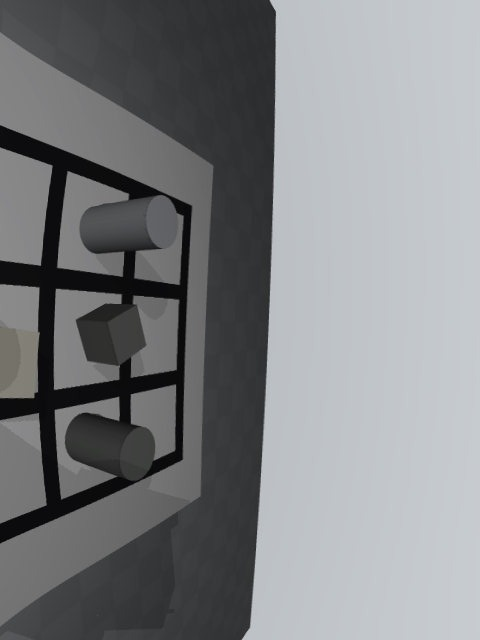can: (79, 195, 179, 254)
cube: (76, 304, 147, 366)
cylinder: (65, 413, 155, 481)
foam: (0, 327, 40, 399)
